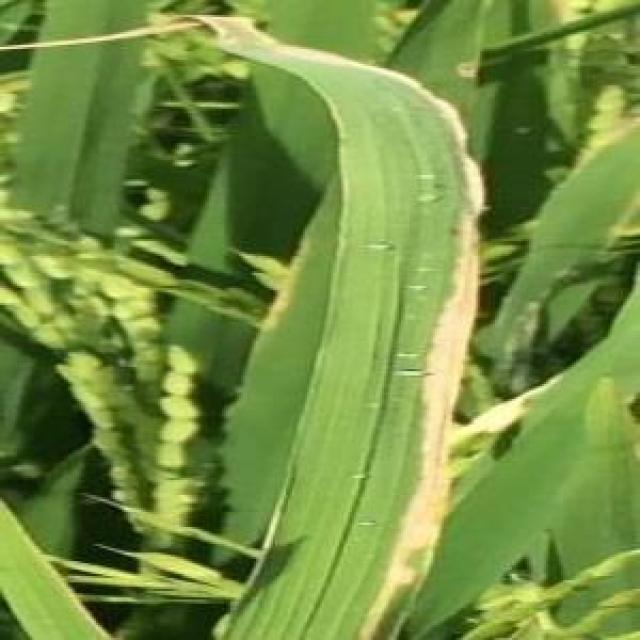Bacterial_Blight: (282, 45, 490, 637)
